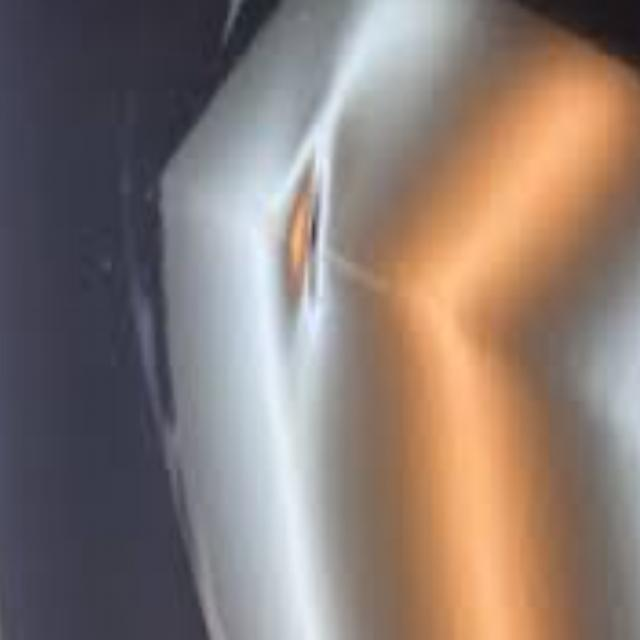dents: (284, 144, 325, 334)
